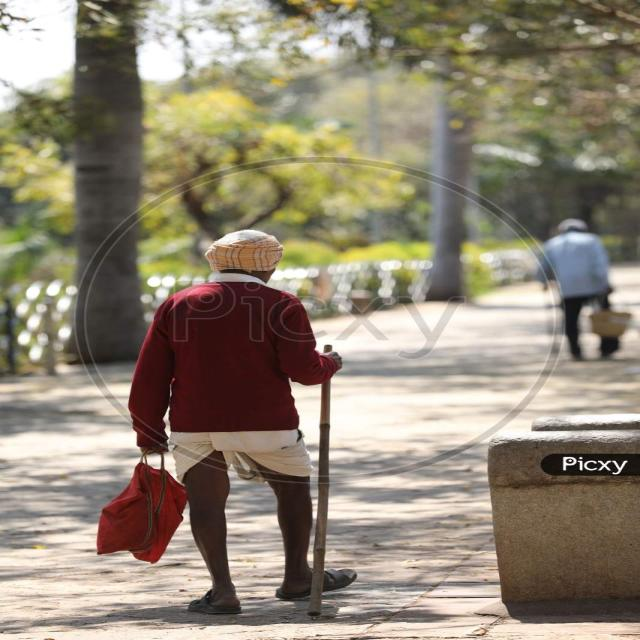idoso em pe: (83, 220, 389, 605)
